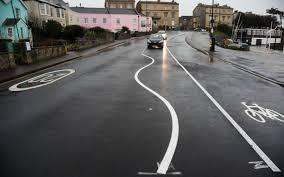road: (0, 37, 170, 175), (139, 31, 283, 175)
